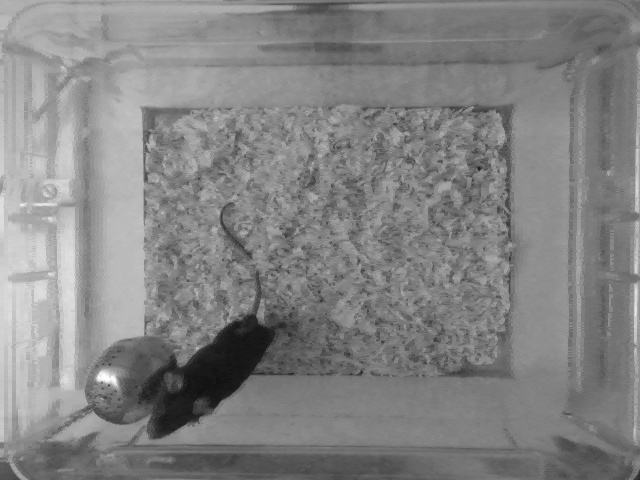mice: (146, 197, 293, 441)
